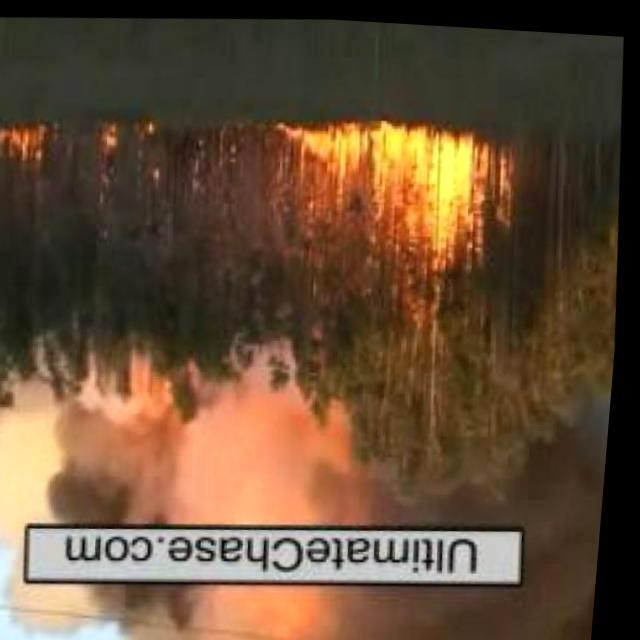fire: (286, 105, 507, 252), (100, 114, 160, 164), (2, 126, 50, 158)
